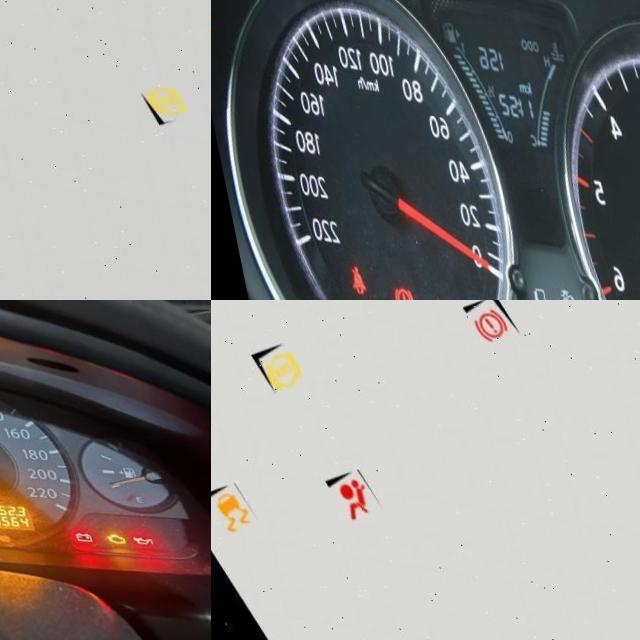Seat Belt: (329, 262, 346, 293)
